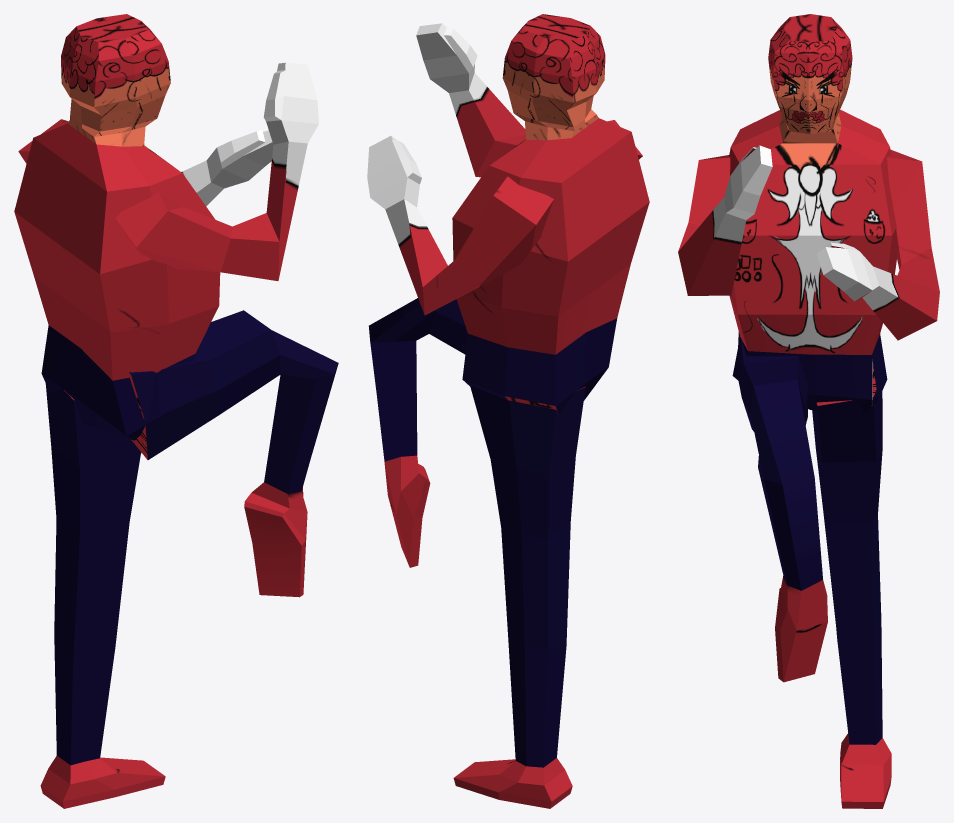
File: ArtMartial.fbx
3 views of the same model, side by side, from view 1: azimuth 30°, elevation 25°; view 2: azimuth 150°, elevation 25°; view 3: azimuth 270°, elevation 25° (orthographic). The views are drawn at different scales.
Parts seen in each view (by area): view 1: Cube.001; view 2: Cube.001; view 3: Cube.001.
Part boxes in pixels (box(x1,y1,x2,y2)): Cube.001: box(14, 14, 338, 808); Cube.001: box(367, 14, 649, 808); Cube.001: box(678, 14, 939, 808).
Bounding box in the file's own units: 156 × 440 × 139.
